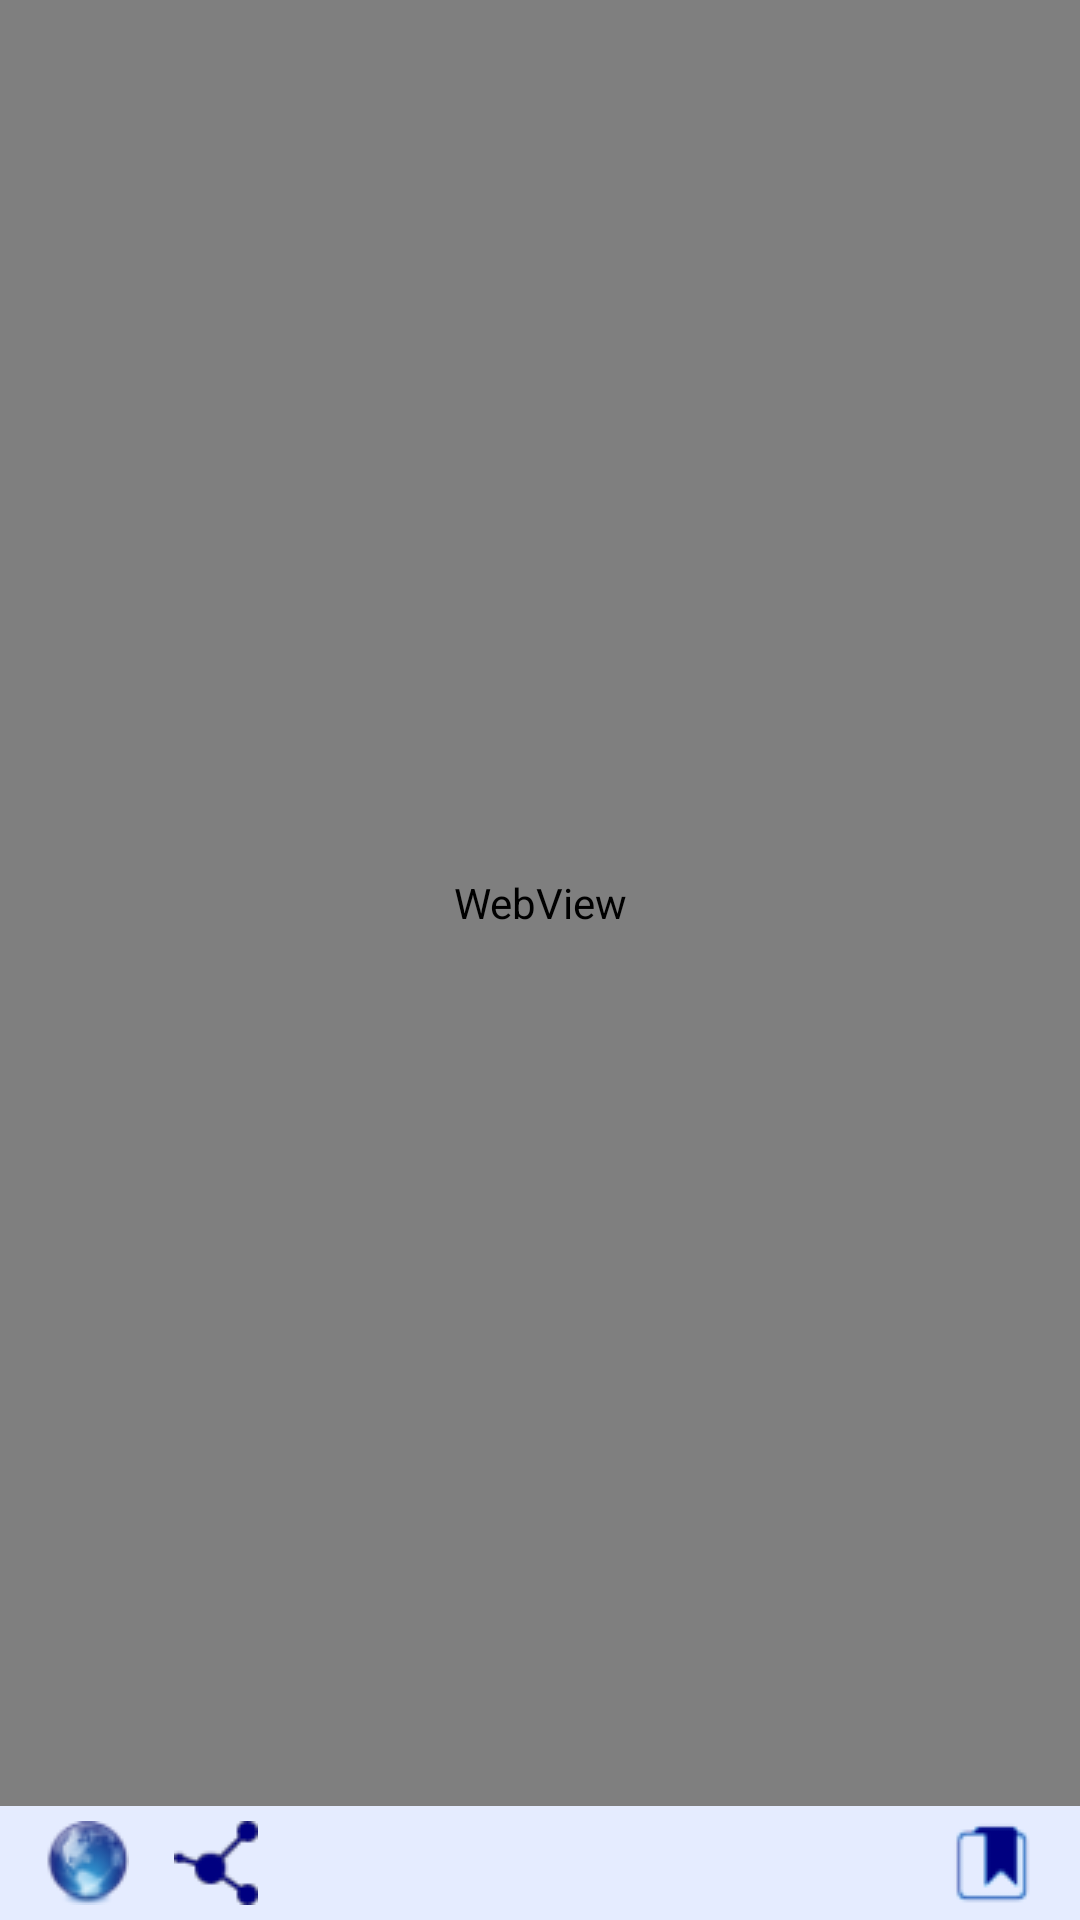

Named icons in this screenshot (1080 × 1920) and their bounding boxes, {"left": x1, "top": y1, "right": x2, "bottom": y2}:
browse: {"left": 47, "top": 1821, "right": 129, "bottom": 1905}
share: {"left": 174, "top": 1821, "right": 258, "bottom": 1905}
